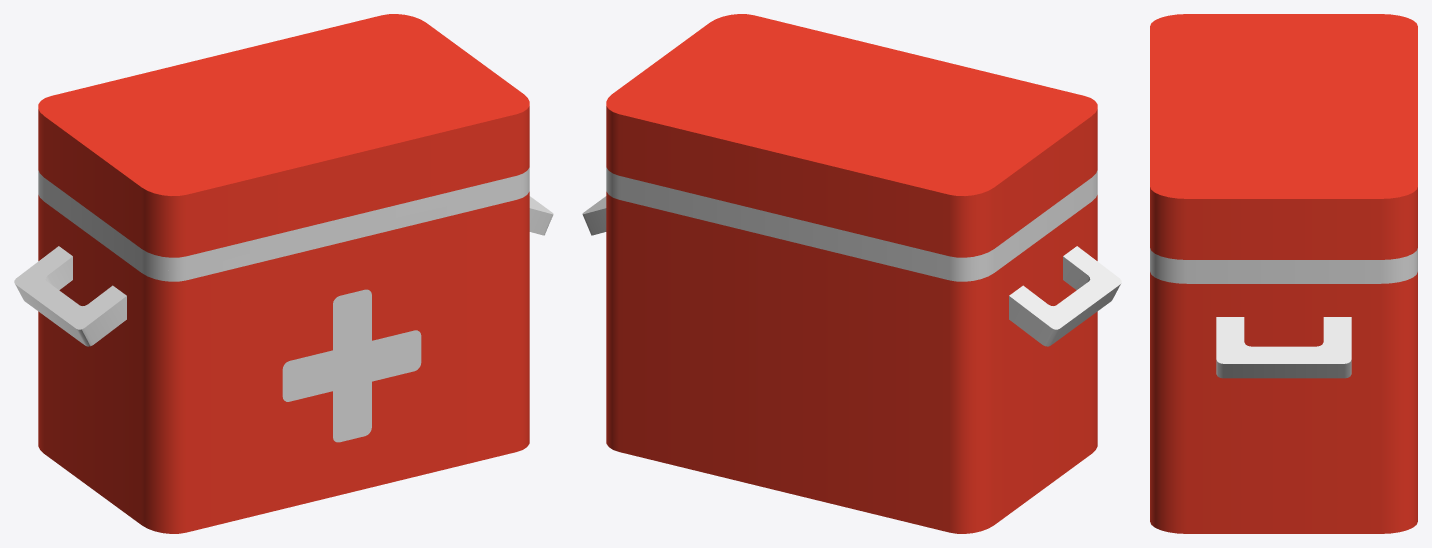
File: Box Red Medical.fbx
3 renders of one model, left to right at view 1: azimuth 30°, elevation 25°; view 2: azimuth 150°, elevation 25°; view 3: azimuth 270°, elevation 25°, orthographic.
Visible parts, largest first — view 1: Box Red Medical, Box Cap Red Medical; view 2: Box Red Medical, Box Cap Red Medical; view 3: Box Red Medical, Box Cap Red Medical.
Part boxes in pixels (x1=…): Box Red Medical: x1=14, y1=180, x2=553, y2=533; Box Cap Red Medical: x1=38, y1=14, x2=529, y2=270; Box Red Medical: x1=582, y1=180, x2=1121, y2=533; Box Cap Red Medical: x1=606, y1=14, x2=1097, y2=270; Box Red Medical: x1=1150, y1=261, x2=1417, y2=533; Box Cap Red Medical: x1=1150, y1=14, x2=1417, y2=272.
Size of the model in its own units: 169 by 114 by 82.92.
